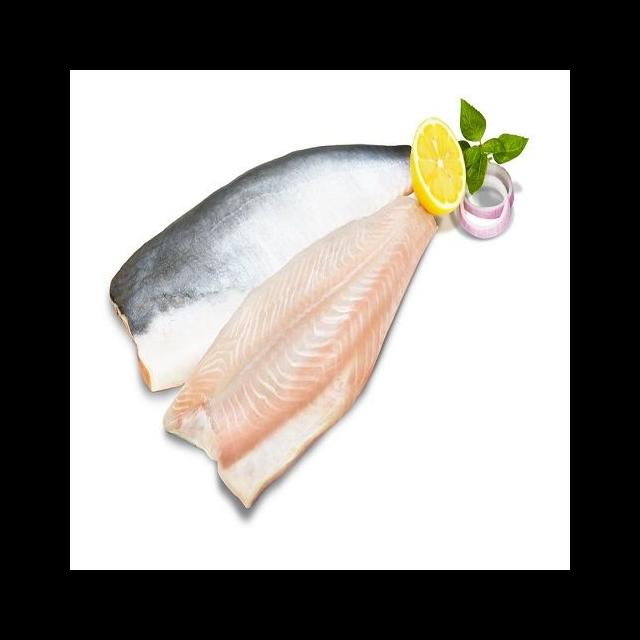fish: (158, 190, 445, 518)
